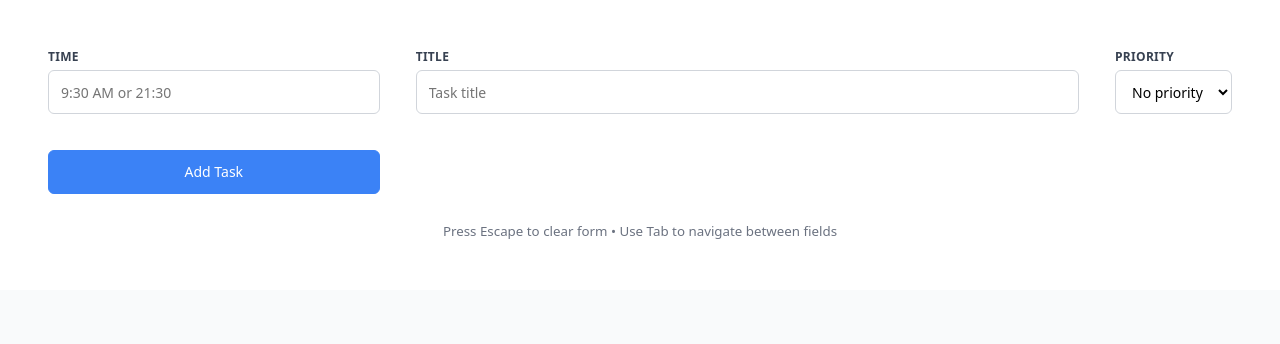
AddTaskForm › Error Handling › handles validation errors gracefully
Type "Test Task" into the field labelled "Title" at (747, 92), box [416,70,1079,114]
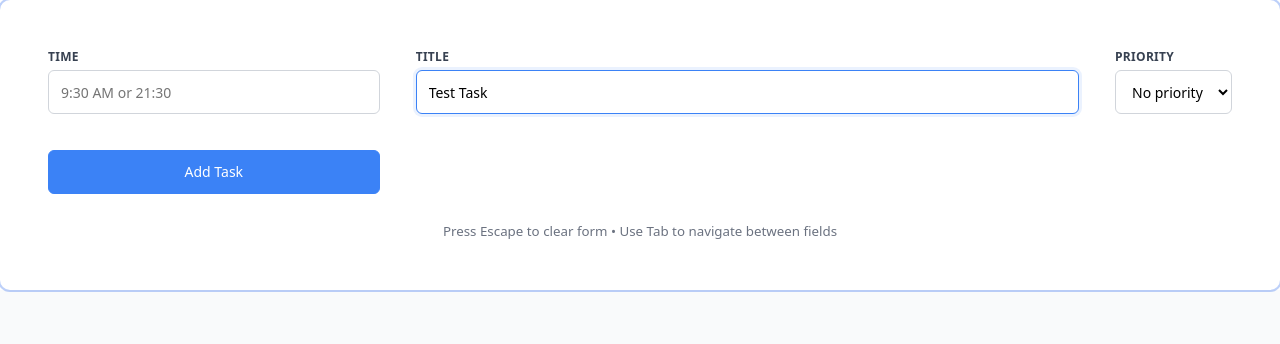
Click the button with aria-label "Add task to your schedule" at (214, 172), box [48,150,380,194]
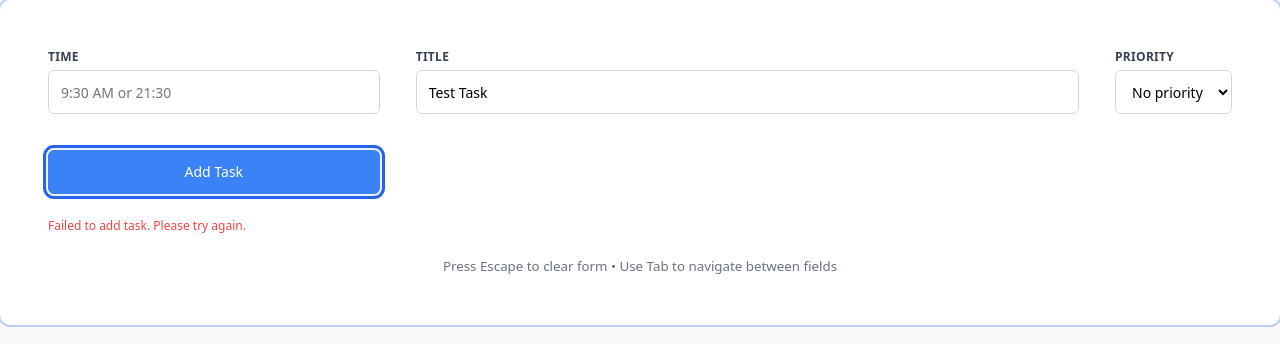
Now the text "Failed to add task. Please try again." is shown, box [48,217,246,234]
